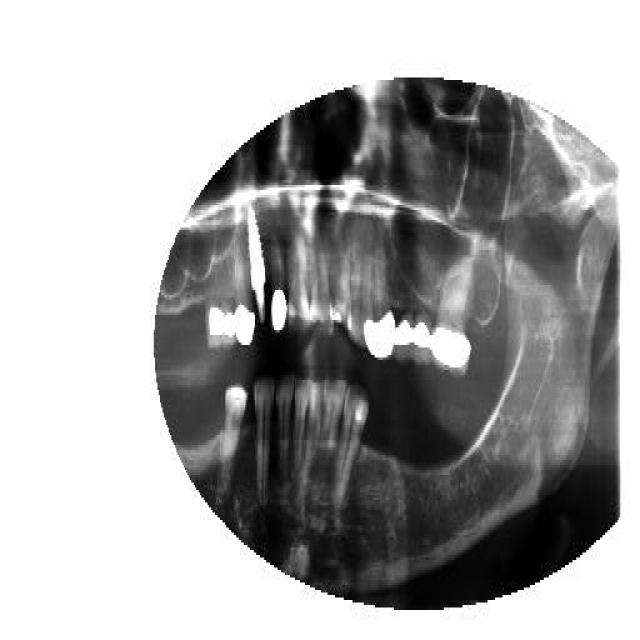Fillings: (435, 252, 473, 378), (205, 255, 237, 353), (364, 260, 395, 360), (270, 235, 289, 337), (235, 260, 256, 345), (396, 280, 414, 368), (413, 285, 432, 367)
Implant: (246, 202, 269, 328)
